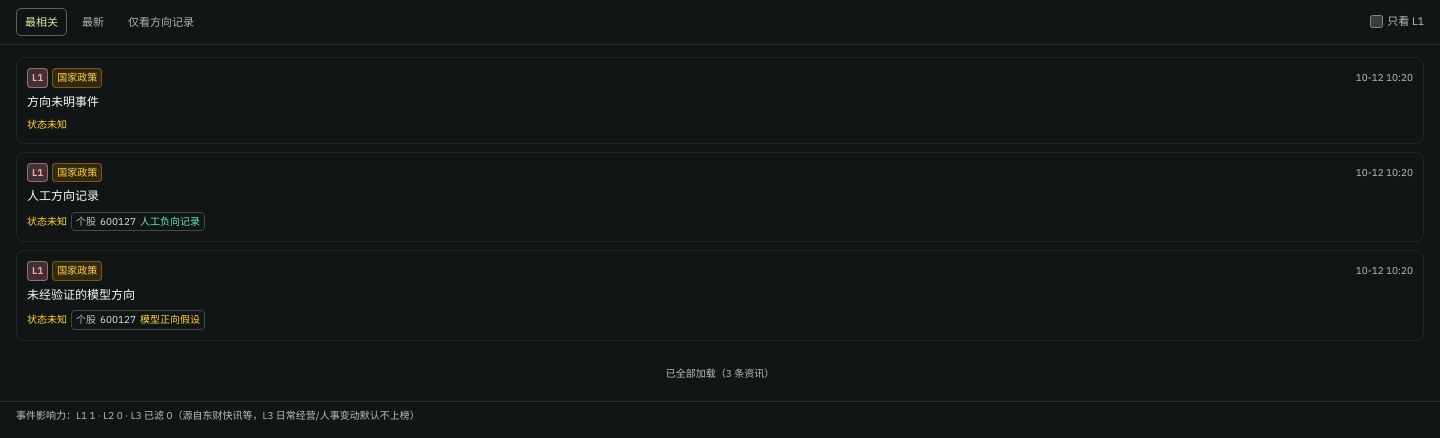
Test: 资讯事件 · 请求身份与无感刷新 › local direction filtering does not request data or change notification eligibility
Click the button "仅看方向记录" at [161, 22], box [119,8,203,36]
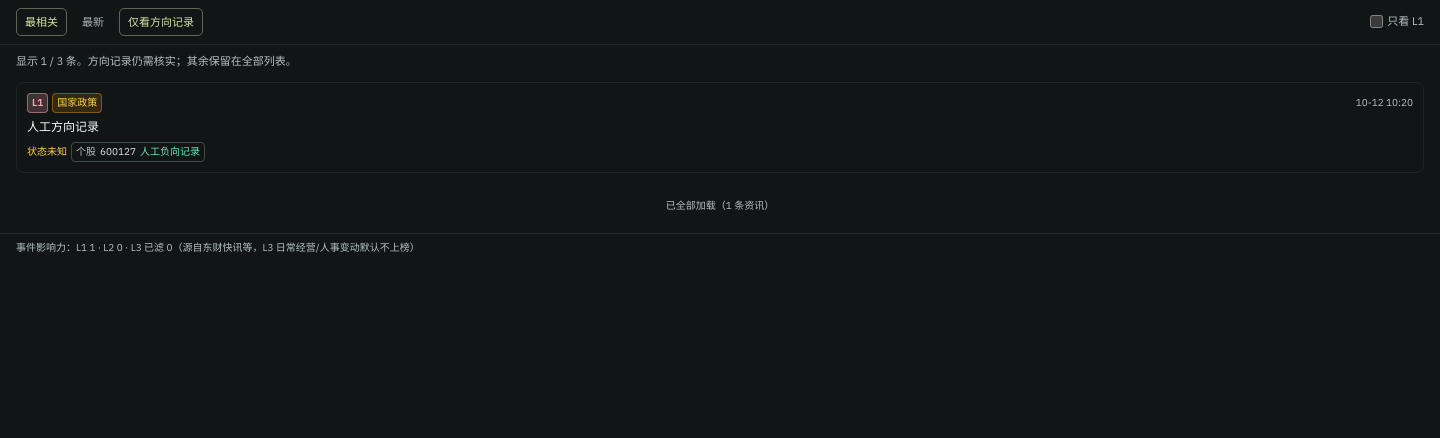
Expected: the button "人工方向记录" is shown, [27,116,1413,136]
Now the button "方向未明事件" is gone
Now the button "未经验证的模型方向" is gone
Click the button "仅看方向记录" at [161, 22], box [119,8,203,36]
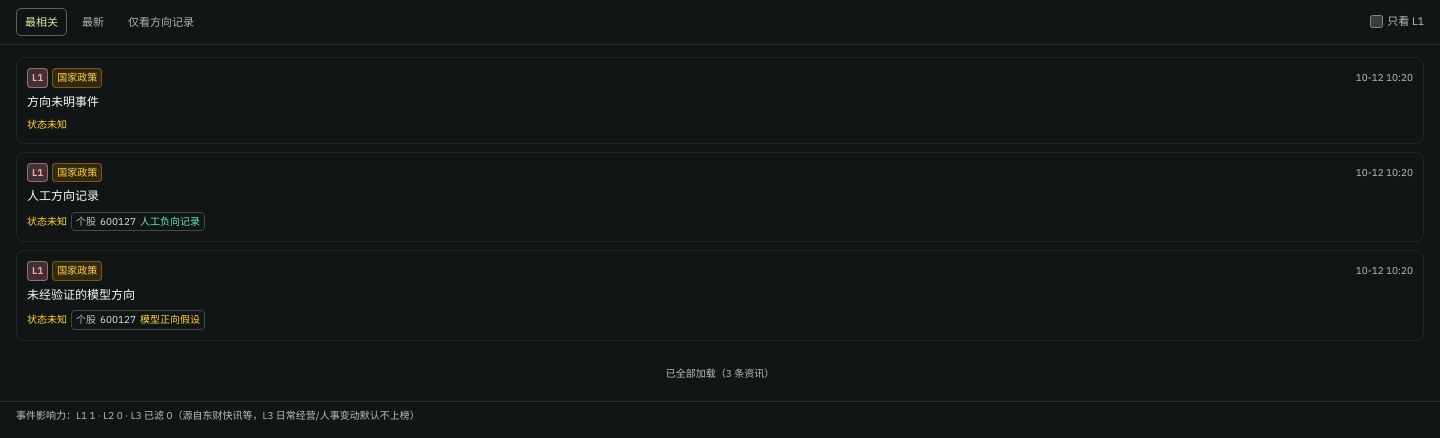
Now the button "方向未明事件" is shown, box [27,92,1413,111]
